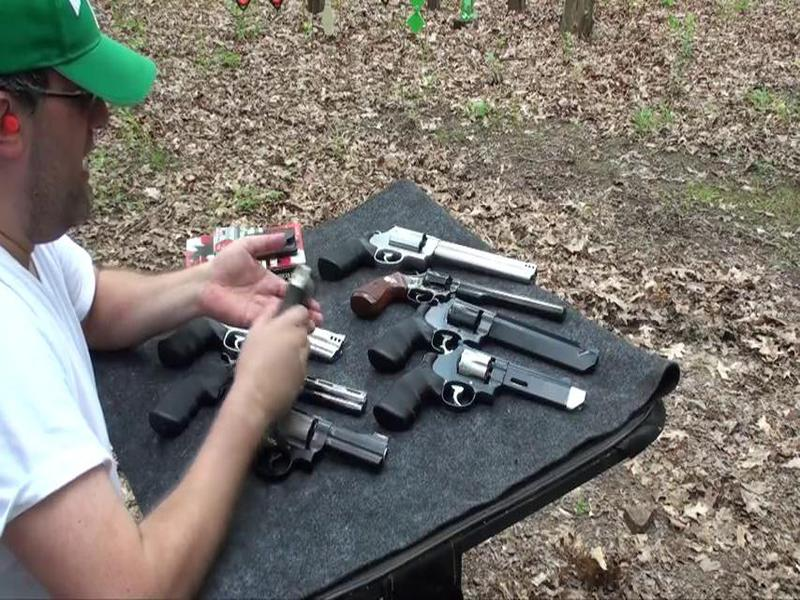Revolver: (320, 214, 547, 295)
